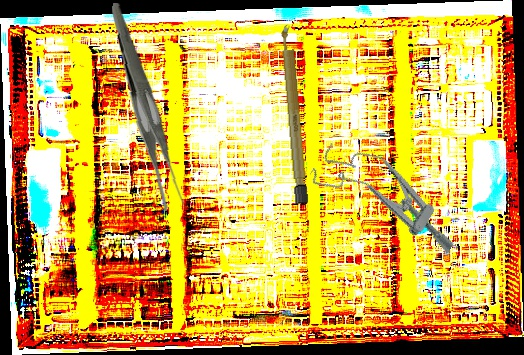Dressing Forceps: (105, 2, 191, 212)
Scalpel Handle: (279, 23, 310, 205)
Speculum: (306, 129, 473, 264)
